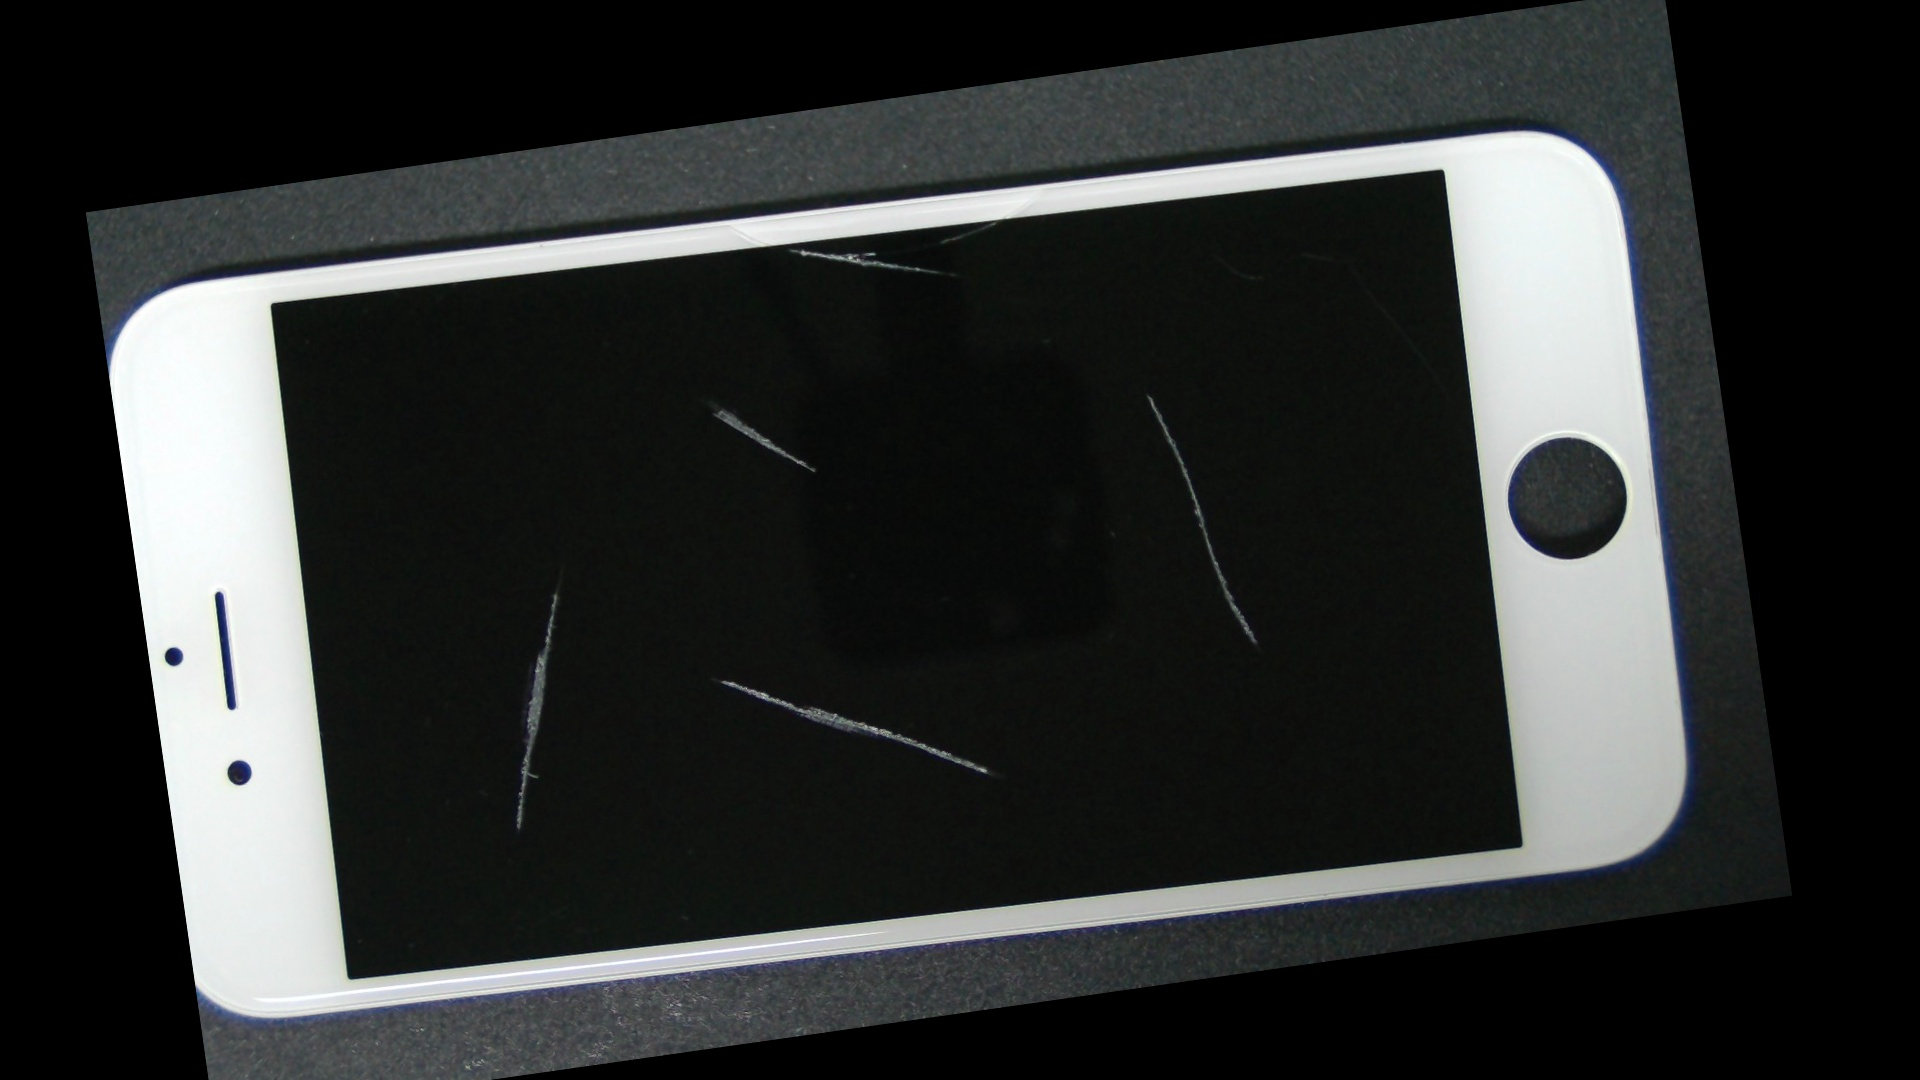oil: (616, 158, 1676, 630), (402, 367, 1034, 992), (541, 91, 1449, 352), (322, 344, 791, 841), (405, 225, 1038, 592), (436, 132, 1138, 364)
